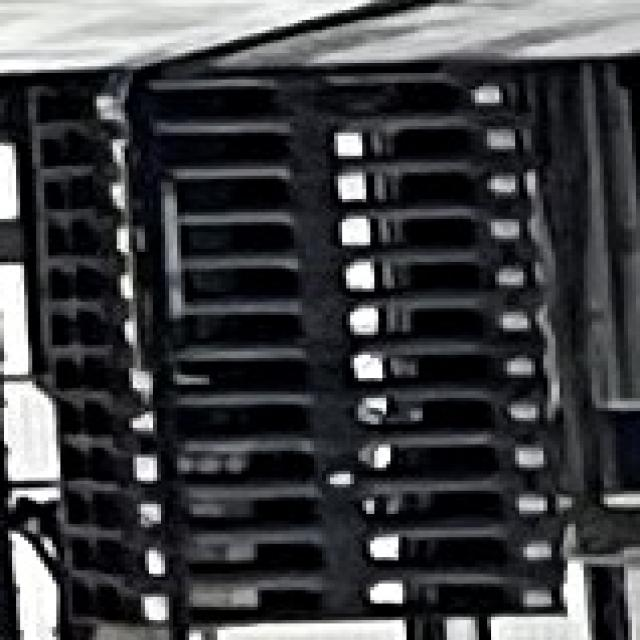igps: (21, 54, 524, 130), (51, 577, 573, 631), (33, 302, 553, 351), (51, 486, 570, 534), (29, 166, 538, 213), (32, 353, 556, 398), (53, 441, 567, 486), (49, 535, 572, 578), (22, 121, 540, 164), (34, 262, 554, 303), (46, 399, 552, 439), (28, 216, 549, 252)
